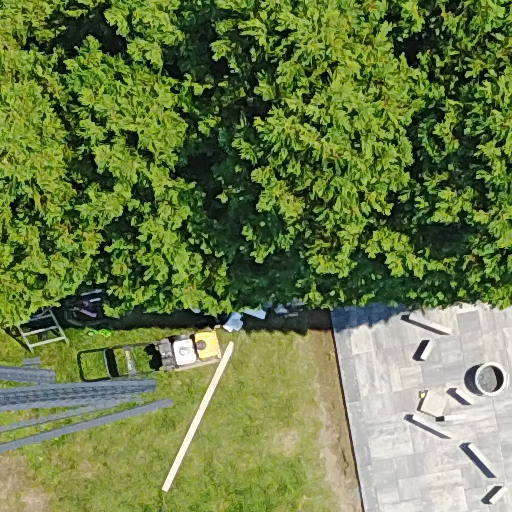container: (193, 330, 225, 362), (167, 338, 198, 365)
flower pot: (469, 360, 512, 403)
